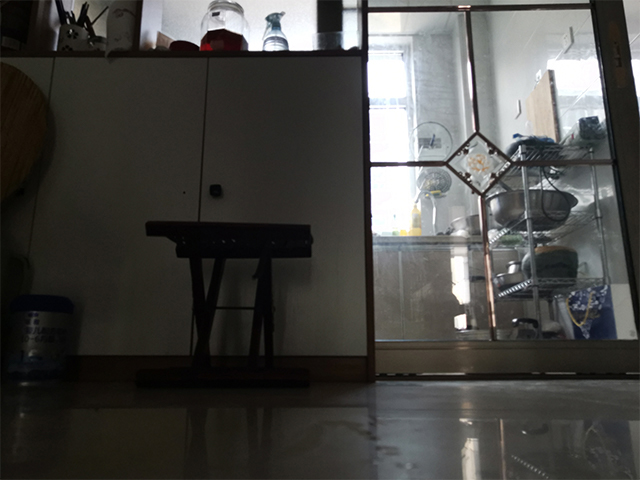cabinet: (60, 49, 363, 381)
stool: (131, 219, 317, 391)
